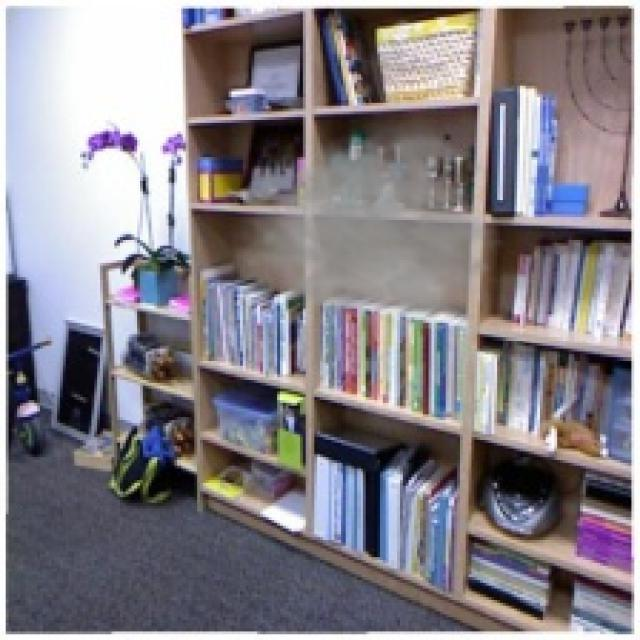Smoke: (234, 117, 509, 329)
